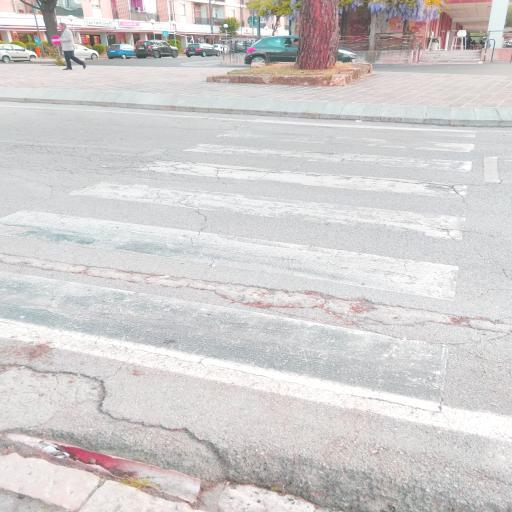crosswalk: (1, 179, 478, 304)
